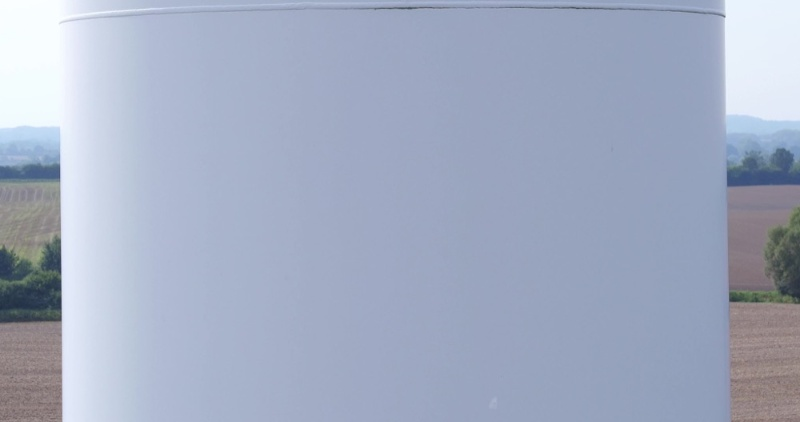weldseam: (57, 1, 727, 28)
